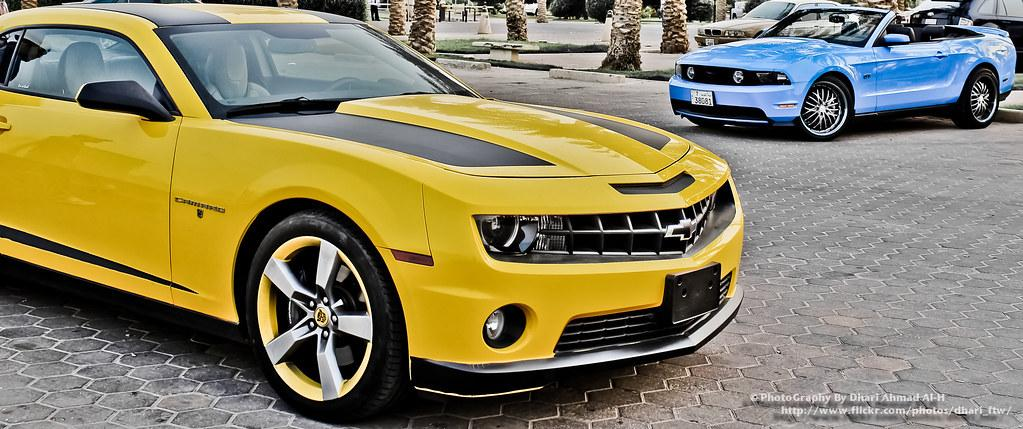car: (1, 3, 746, 424), (669, 5, 1018, 141), (695, 1, 848, 47)
